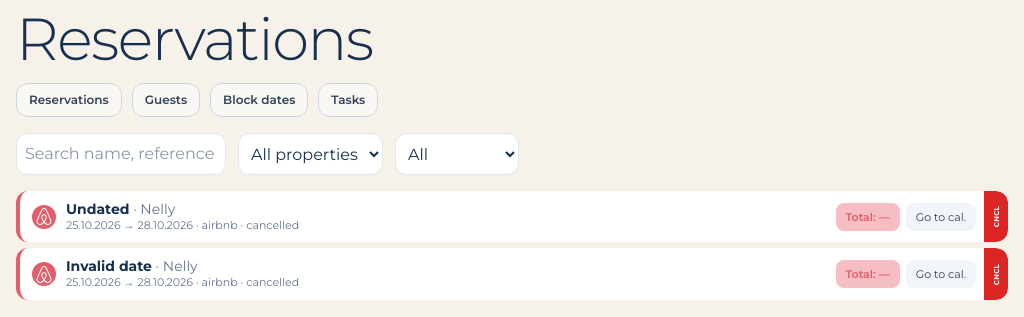
Scenario: cancelled import archive › keeps undated cancellations visible and uses the update date for legacy rows
The width and height of the screenshot is (1024, 317).
Expected: the text "Undated" is shown, [66,201,130,218]
Expected: the text "Invalid date" is shown, [66,258,152,276]
Select "Cancelled" in the dropdown named "Reservation filter": (457, 154) [395,133,519,175]
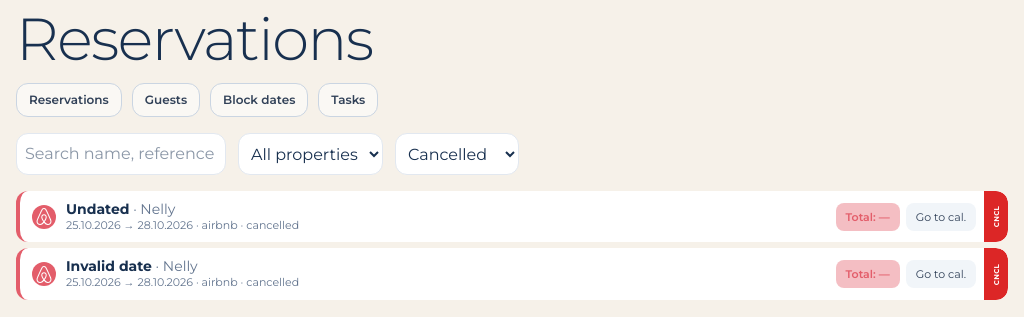
Expected: the text "Undated" is shown, [66,201,130,218]
Expected: the text "Legacy old" is not shown
Select "Archived" in the dropdown named "Reservation filter": (457, 154) [395,133,519,175]
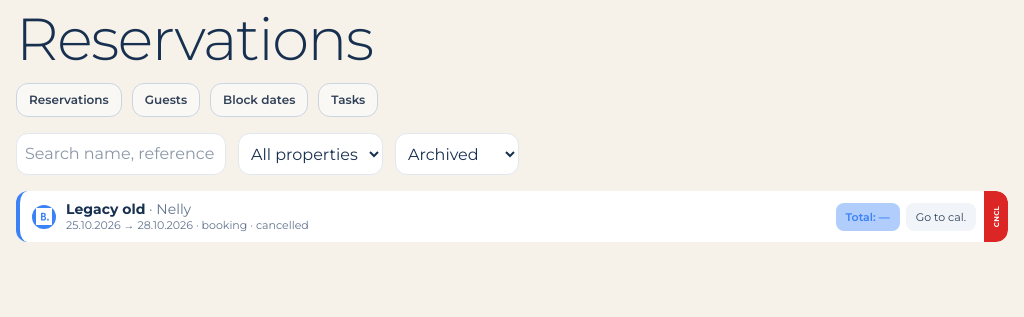
Expected: the text "Legacy old" is shown, [66,201,145,218]
Expected: the text "Undated" is gone
